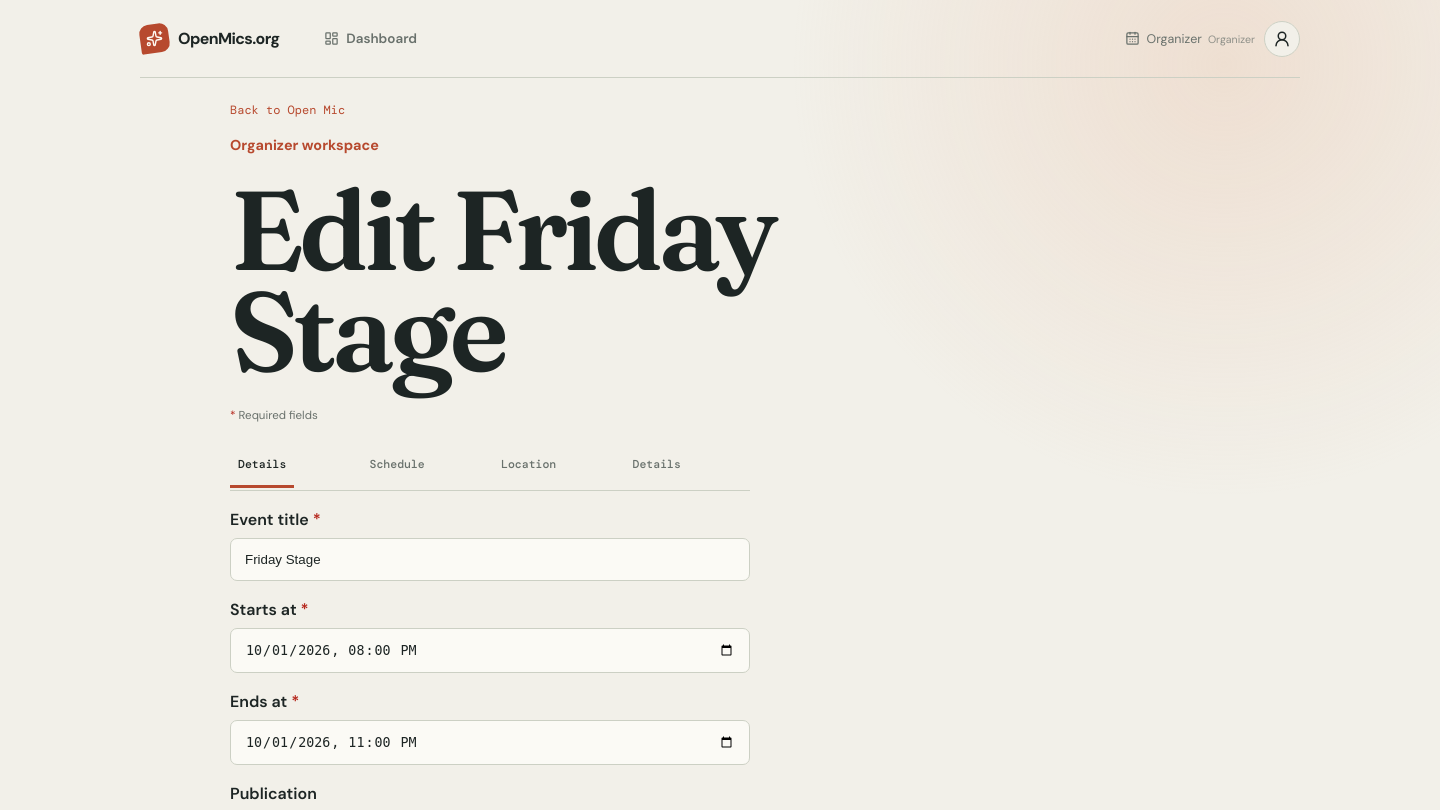
Test: EventFormPage cancellation › shows registration controls when editing a pre_only series event
What coordinates should you click on to do the following:
click the tab "Schedule"
I would click on:
 (397, 467)
Its box is [362, 446, 433, 488].
(page scrolled)
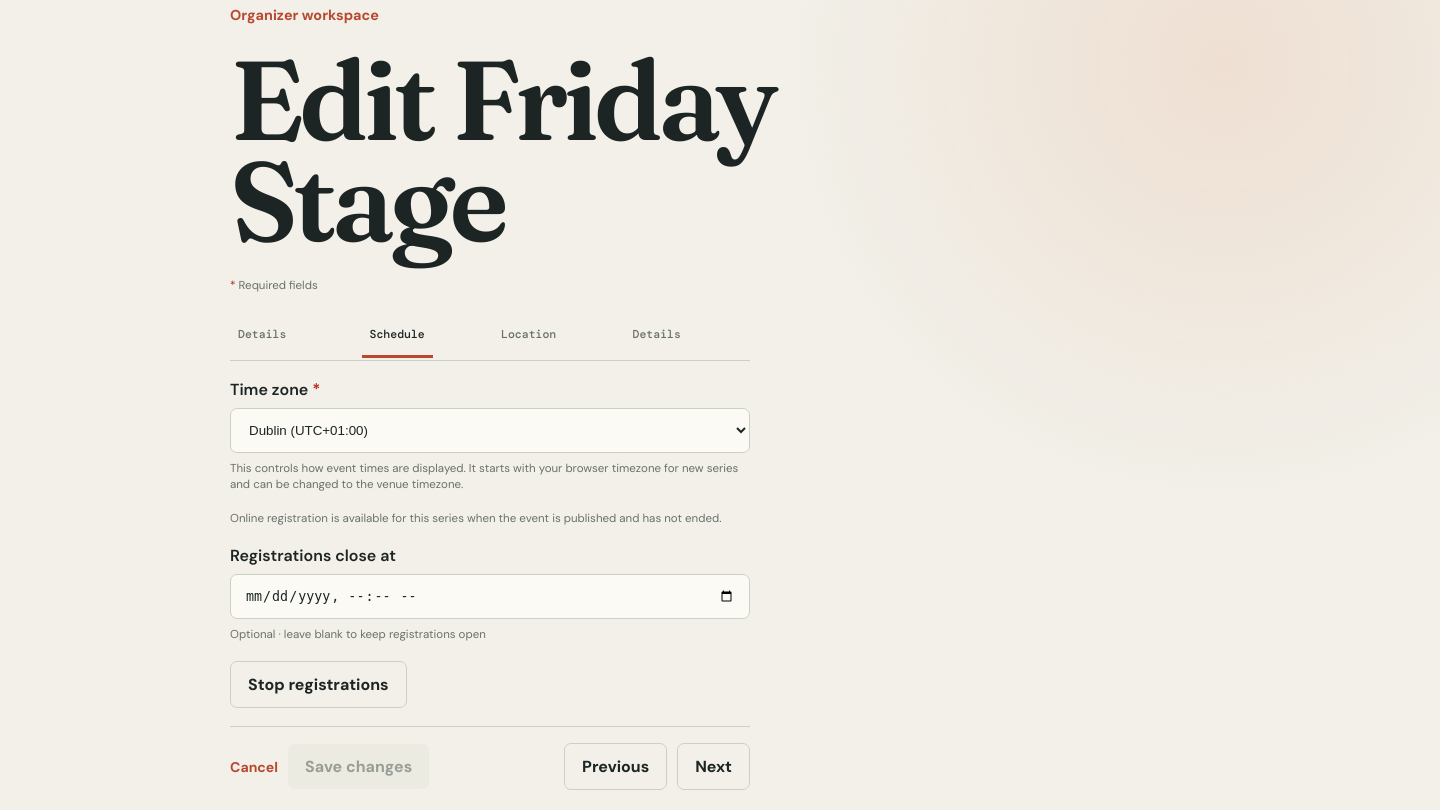
Expected: the field labelled "Registrations close at" is shown, [230, 574, 750, 619]
Expected: the button "Stop registrations" is shown, [230, 661, 407, 708]
